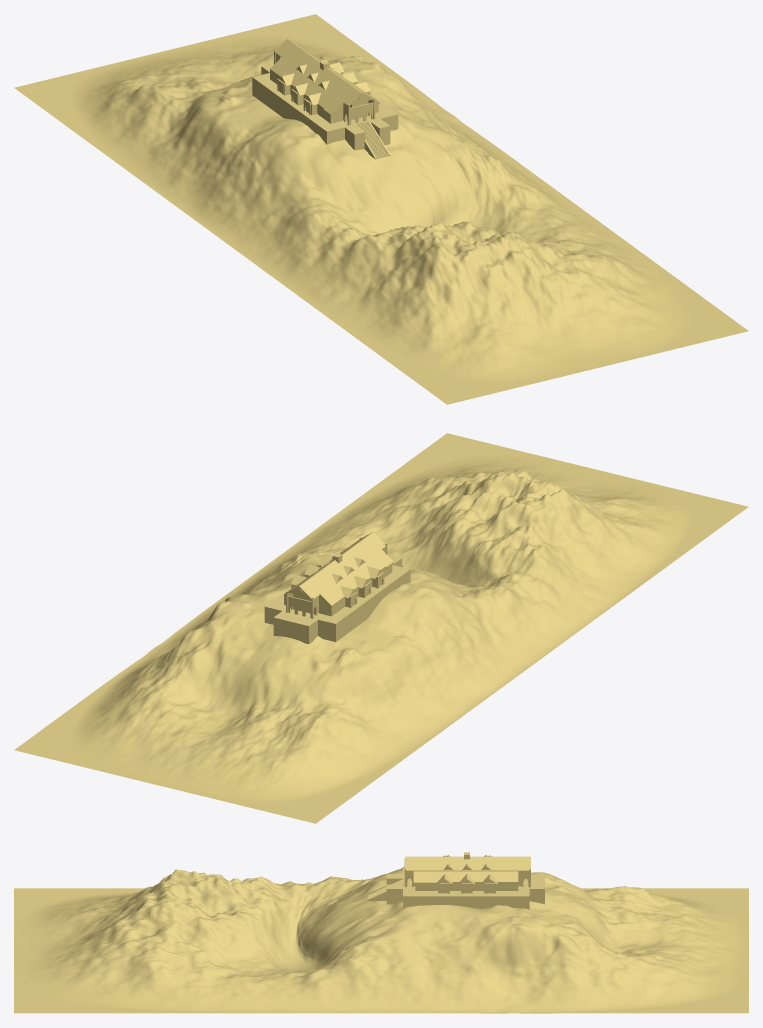
Rendered from lohan.glb.
3 views of the same model, one above another, from view 1: azimuth 30°, elevation 25°; view 2: azimuth 150°, elevation 25°; view 3: azimuth 270°, elevation 25° (orthographic). The views are drawn at different scales.
Parts seen in each view (by area): view 1: Landscape; view 2: Landscape; view 3: Landscape.
Part boxes in pixels (x1,y1,x2,y2): Landscape: [14, 14, 748, 404]; Landscape: [14, 433, 748, 823]; Landscape: [14, 852, 748, 1013].
Size of the model in its own units: 26.05 by 9.5 by 64.73.
